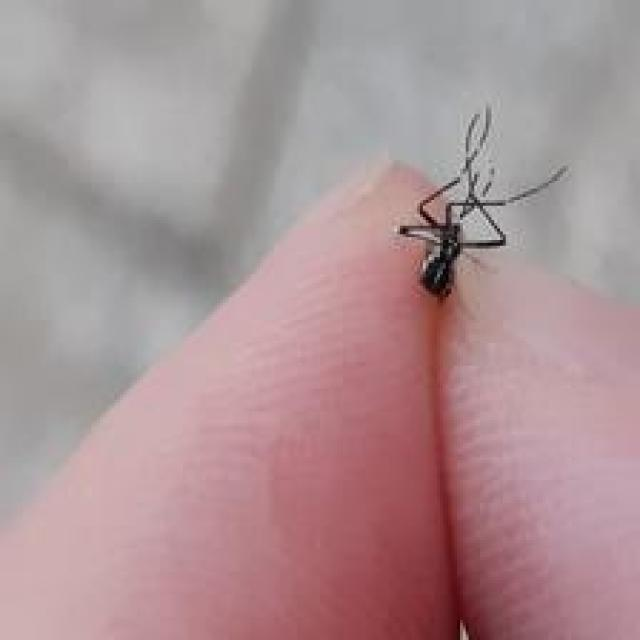Aedes albopictus: (394, 102, 569, 304)
